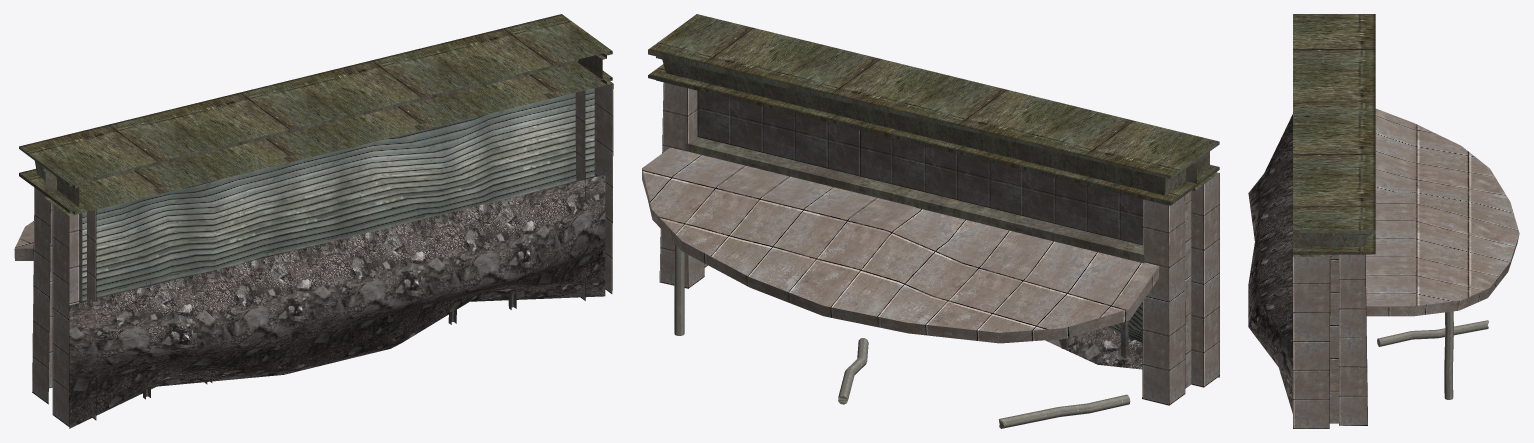
The model's file is Store_front_49.fbx.
3 renders of one model, left to right at view 1: azimuth 30°, elevation 25°; view 2: azimuth 150°, elevation 25°; view 3: azimuth 270°, elevation 25°, orthographic. The views are drawn at different scales.
Visible parts, largest first — view 1: Store_front_49; view 2: Store_front_49; view 3: Store_front_49.
Part boxes in pixels (left/top/right/bottom): Store_front_49: left=14, top=14, right=613, bottom=428; Store_front_49: left=642, top=14, right=1219, bottom=428; Store_front_49: left=1248, top=14, right=1519, bottom=428.
Bounding box in the file's own units: 1402 × 622 × 742.
